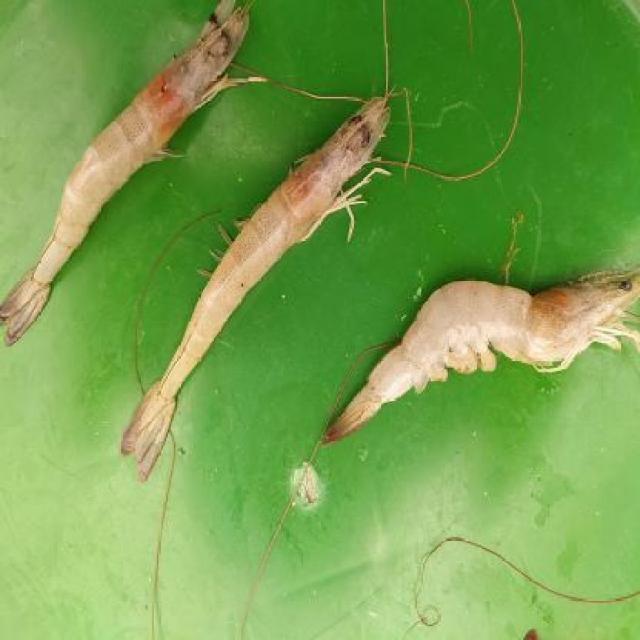shrimp: (126, 99, 383, 465), (11, 10, 247, 307), (332, 275, 640, 439)
